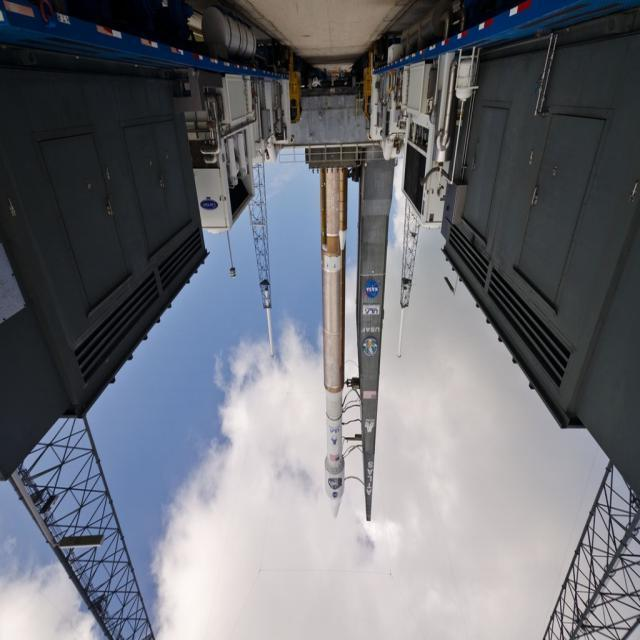missile: (313, 167, 351, 527), (321, 167, 347, 396)
